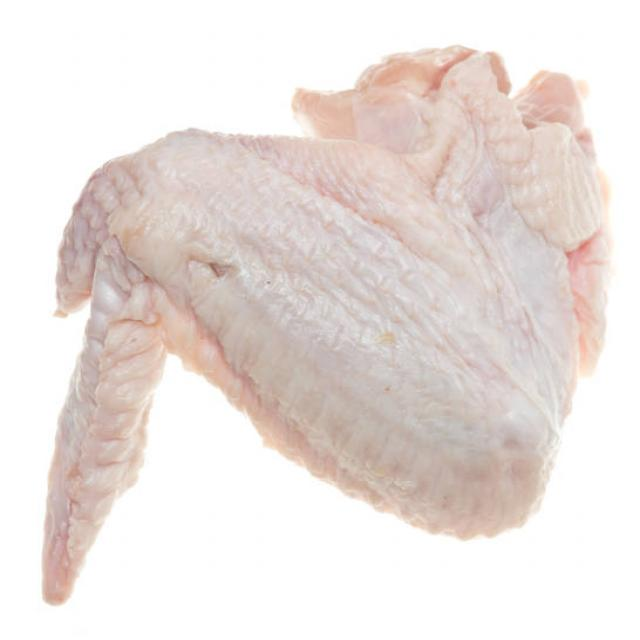Chicken Wing: (31, 42, 614, 617)
